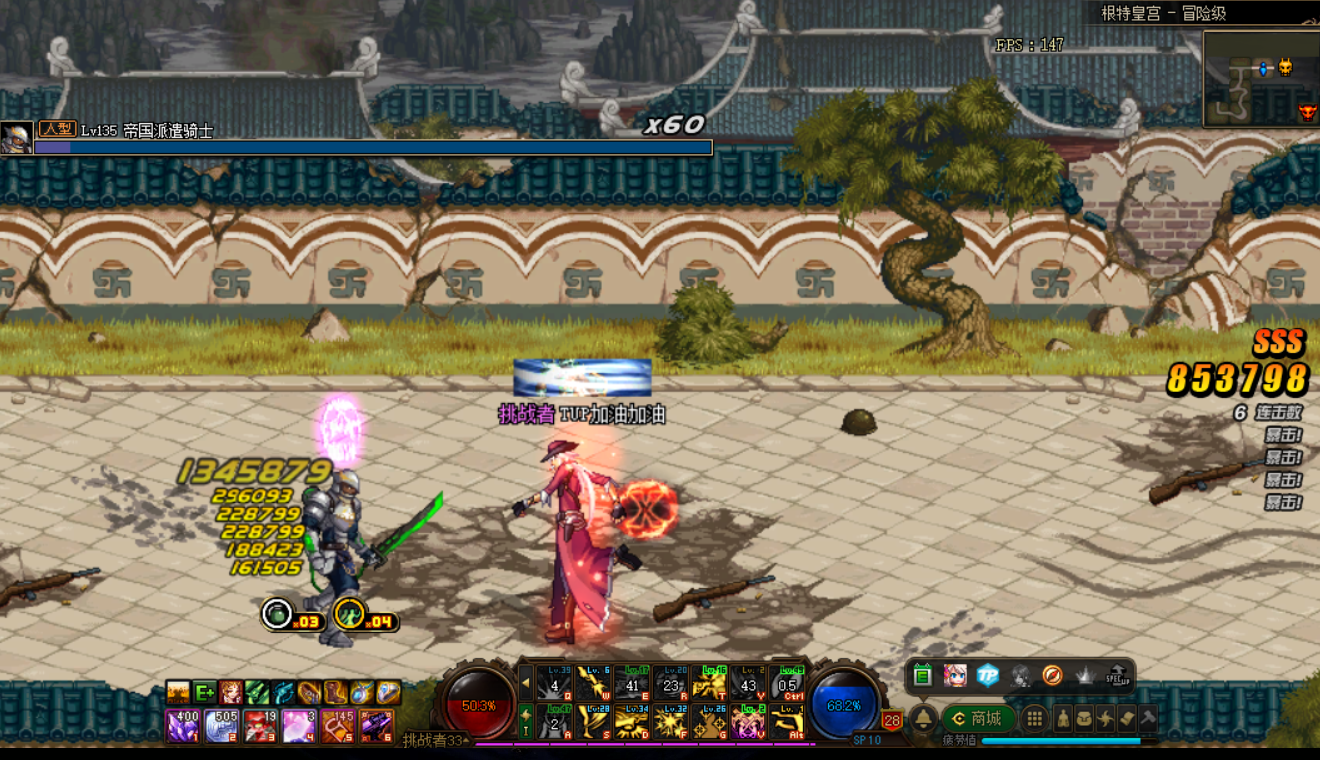monster: (283, 466, 438, 644)
warrior: (487, 433, 640, 644)
